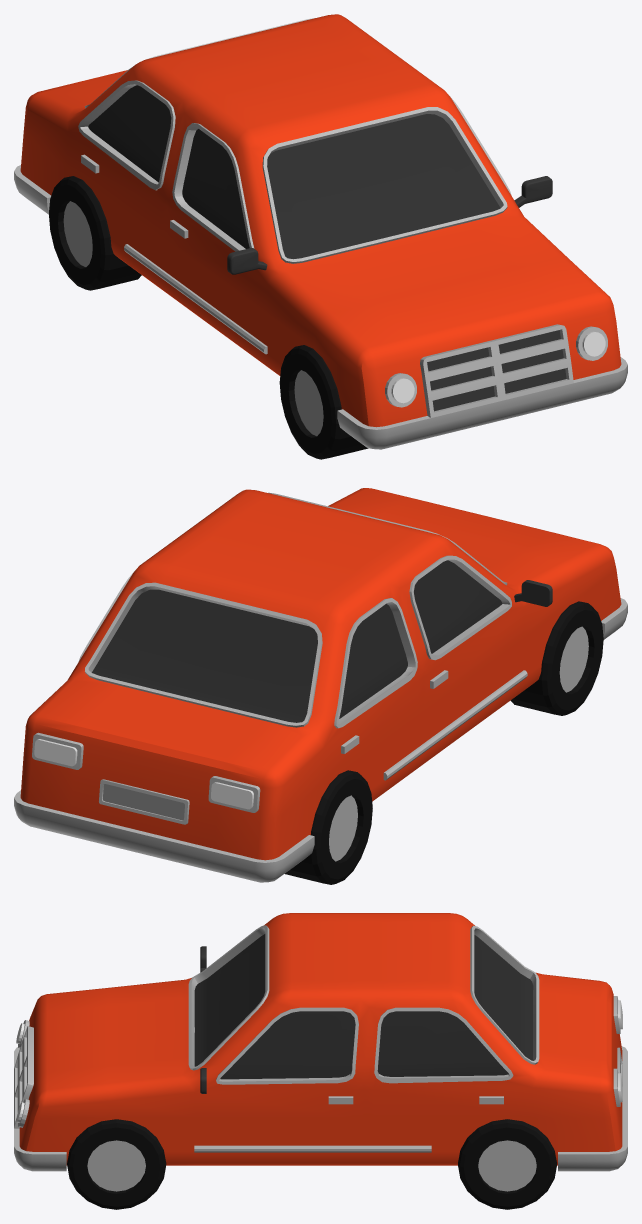
Rendered from SimpleCar.fbx.
The picture shows the model from 3 angles, top to bottom: view 1: azimuth 30°, elevation 25°; view 2: azimuth 150°, elevation 25°; view 3: azimuth 270°, elevation 25°; orthographic projection. The views are drawn at different scales.
Visible parts, largest first — view 1: Car; view 2: Car; view 3: Car.
Part boxes in pixels (left/top/right/bottom): Car: left=14, top=14, right=627, bottom=459; Car: left=14, top=488, right=627, bottom=884; Car: left=14, top=913, right=627, bottom=1209.
Size of the model in its own units: 162 by 116 by 315.
